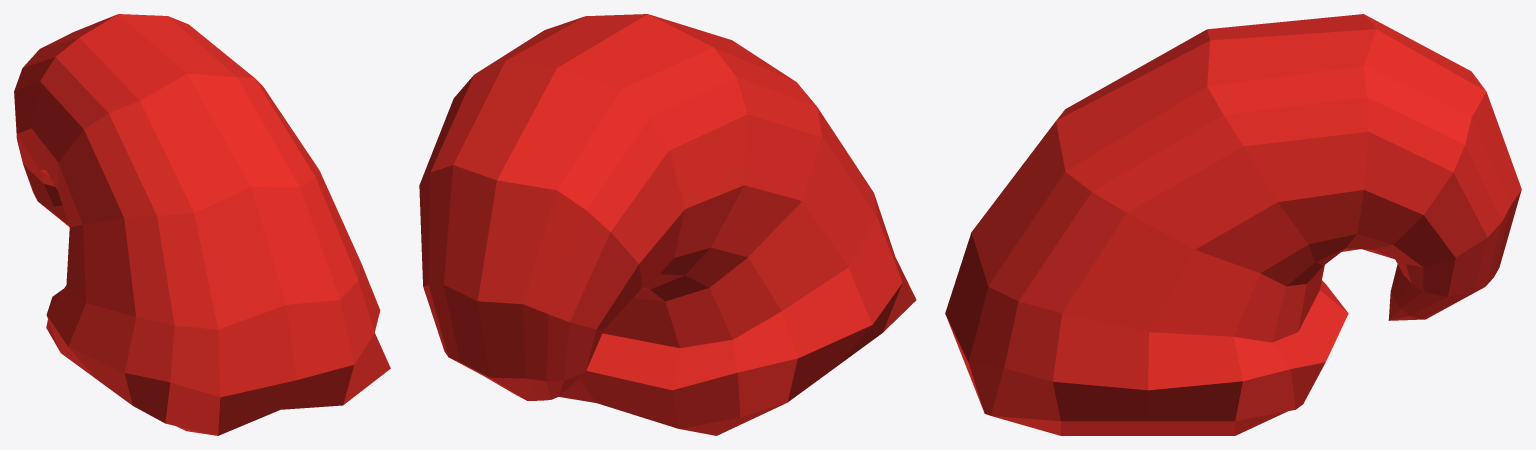
The model's file is Shell_C.glb.
The picture shows the model from 3 angles, left to right: view 1: azimuth 30°, elevation 25°; view 2: azimuth 150°, elevation 25°; view 3: azimuth 270°, elevation 25°; orthographic projection. The views are drawn at different scales.
Visible parts, largest first — view 1: Shell C; view 2: Shell C; view 3: Shell C.
Part boxes in pixels (bbox=[...]): Shell C: bbox=[14, 14, 390, 435]; Shell C: bbox=[419, 14, 916, 435]; Shell C: bbox=[945, 14, 1521, 435].
Bounding box in the file's own units: 2.31 × 2.34 × 3.31.
